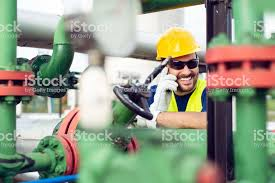Person_wearing_helmet: (151, 26, 201, 72)
